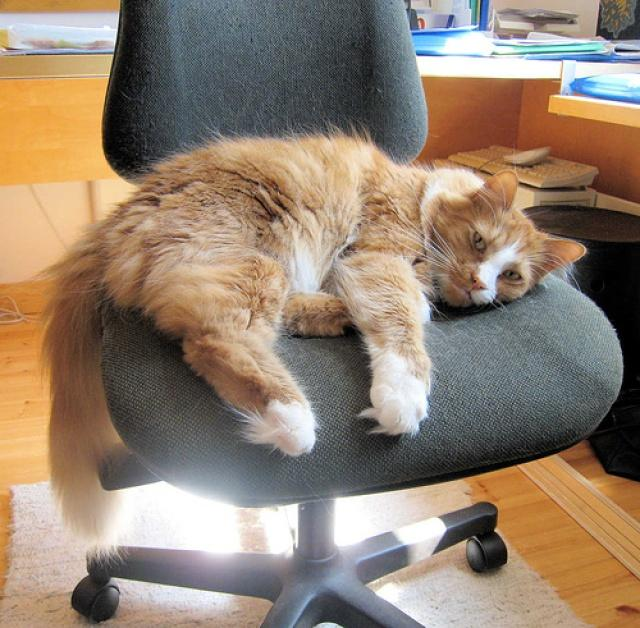Kursi: (64, 0, 624, 627)
